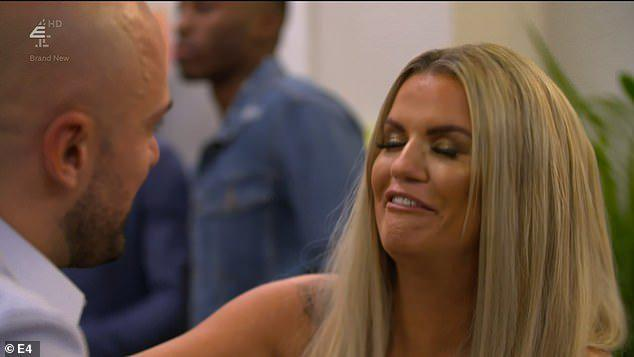Drunk: (375, 83, 473, 239)
